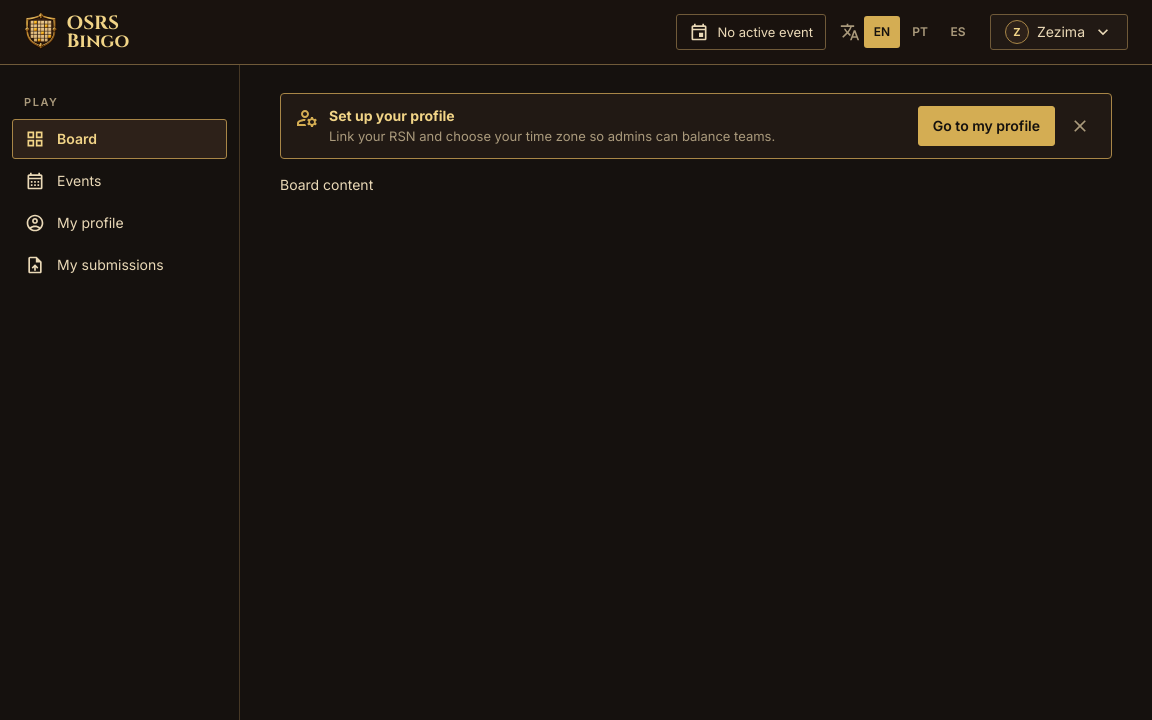
Scenario: Profile setup notice (046) › hides for the rest of the session once closed
Click the button named "Hide this notice". click: (1080, 126)
box: x1=1063 y1=109 x2=1097 y2=143
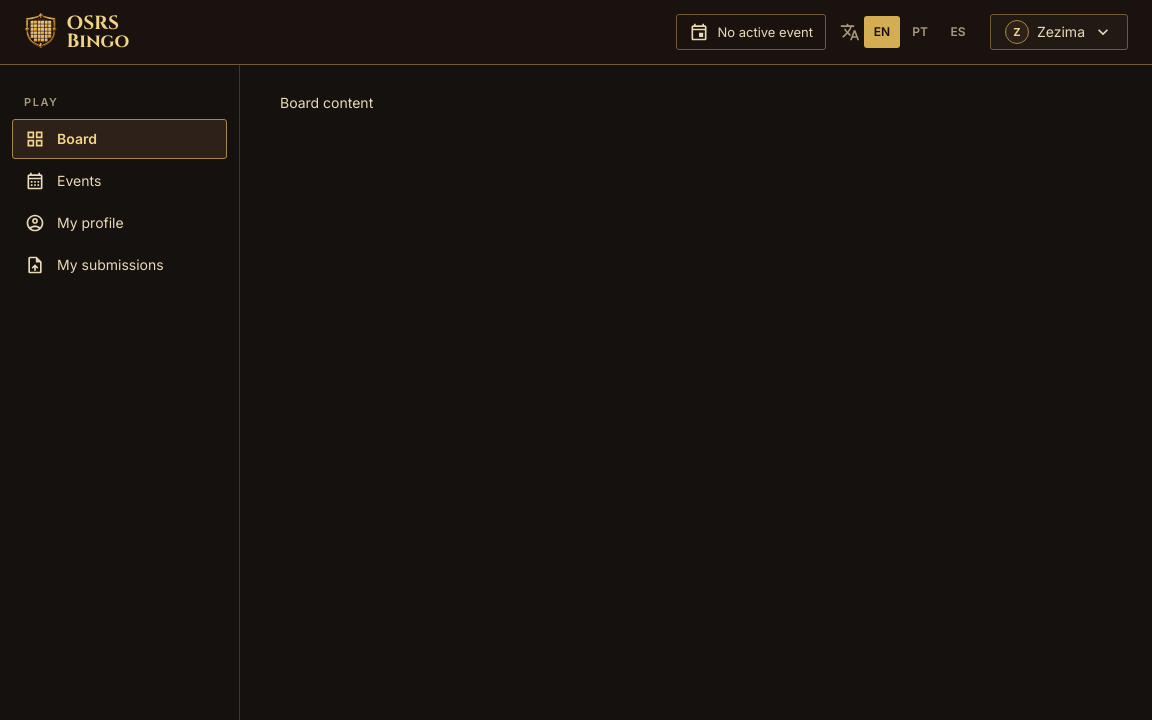
Expected: the text "Set up your profile" is gone
